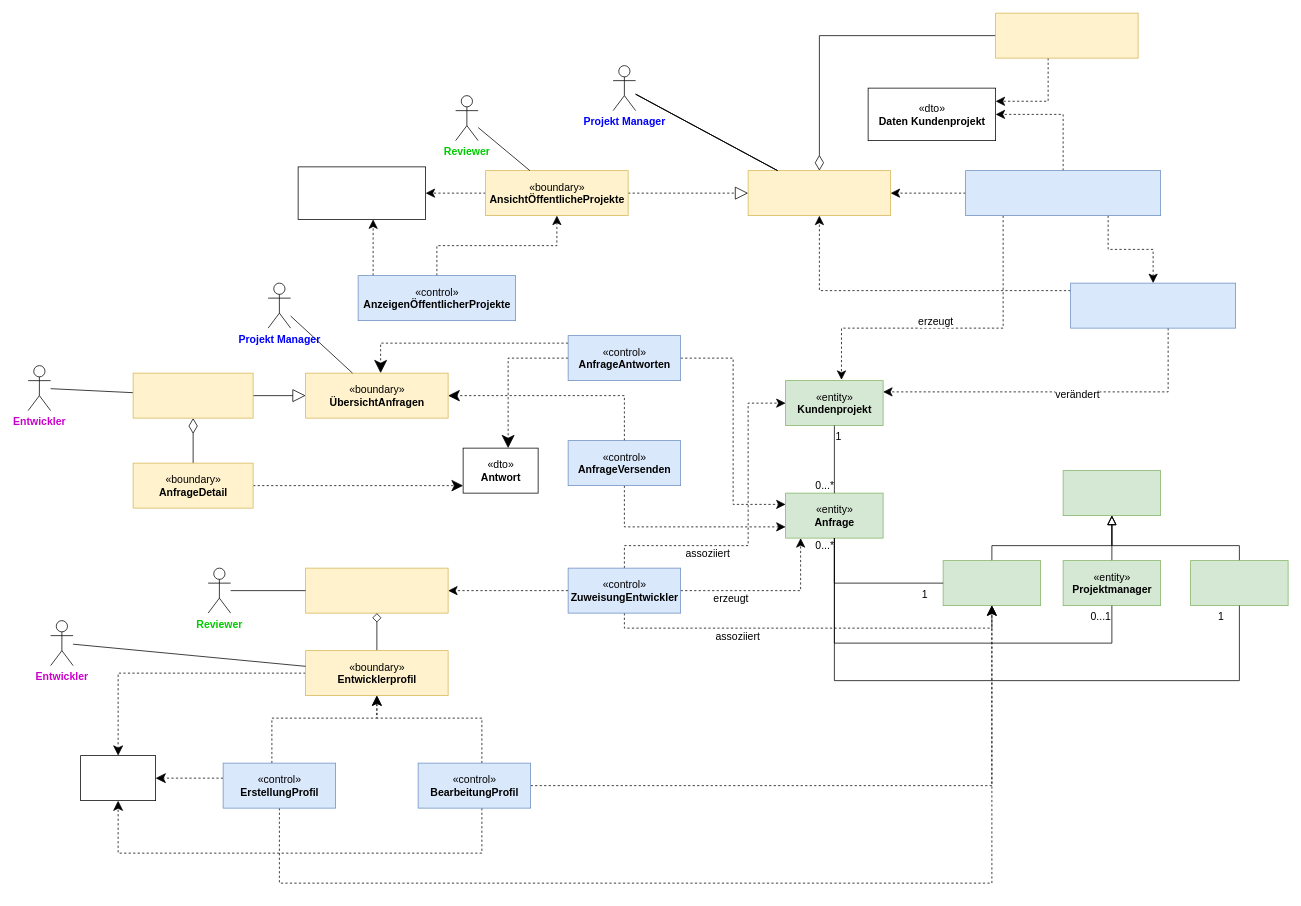
This 1301x906 diagram has some shape labels left out. The centre of each missing label's shape, as x and y in pixels:
"«boundary» AnsichtKundenprojekte" belongs at [819,193].
"«boundary» ErhalteneAnfragen" belongs at [192,395].
"«boundary» KundenProjektDetail" belongs at [1066,35].
"«boundary» ÜbersichtEntwickler" belongs at [376,590].
"«control» ErstellungKundenprojekt" belongs at [1063,193].
"«control» VeröffentlichungKundenprojekt" belongs at [1153,305].
"«dto» Liste Kundenprojekte" belongs at [361,192].
"«dto» ProfilAngaben" belongs at [118,778].
"«entity» Benutzer" belongs at [1111,493].
"«entity» Entwickler" belongs at [991,583].
"«entity» Reviewer" belongs at [1239,583].
